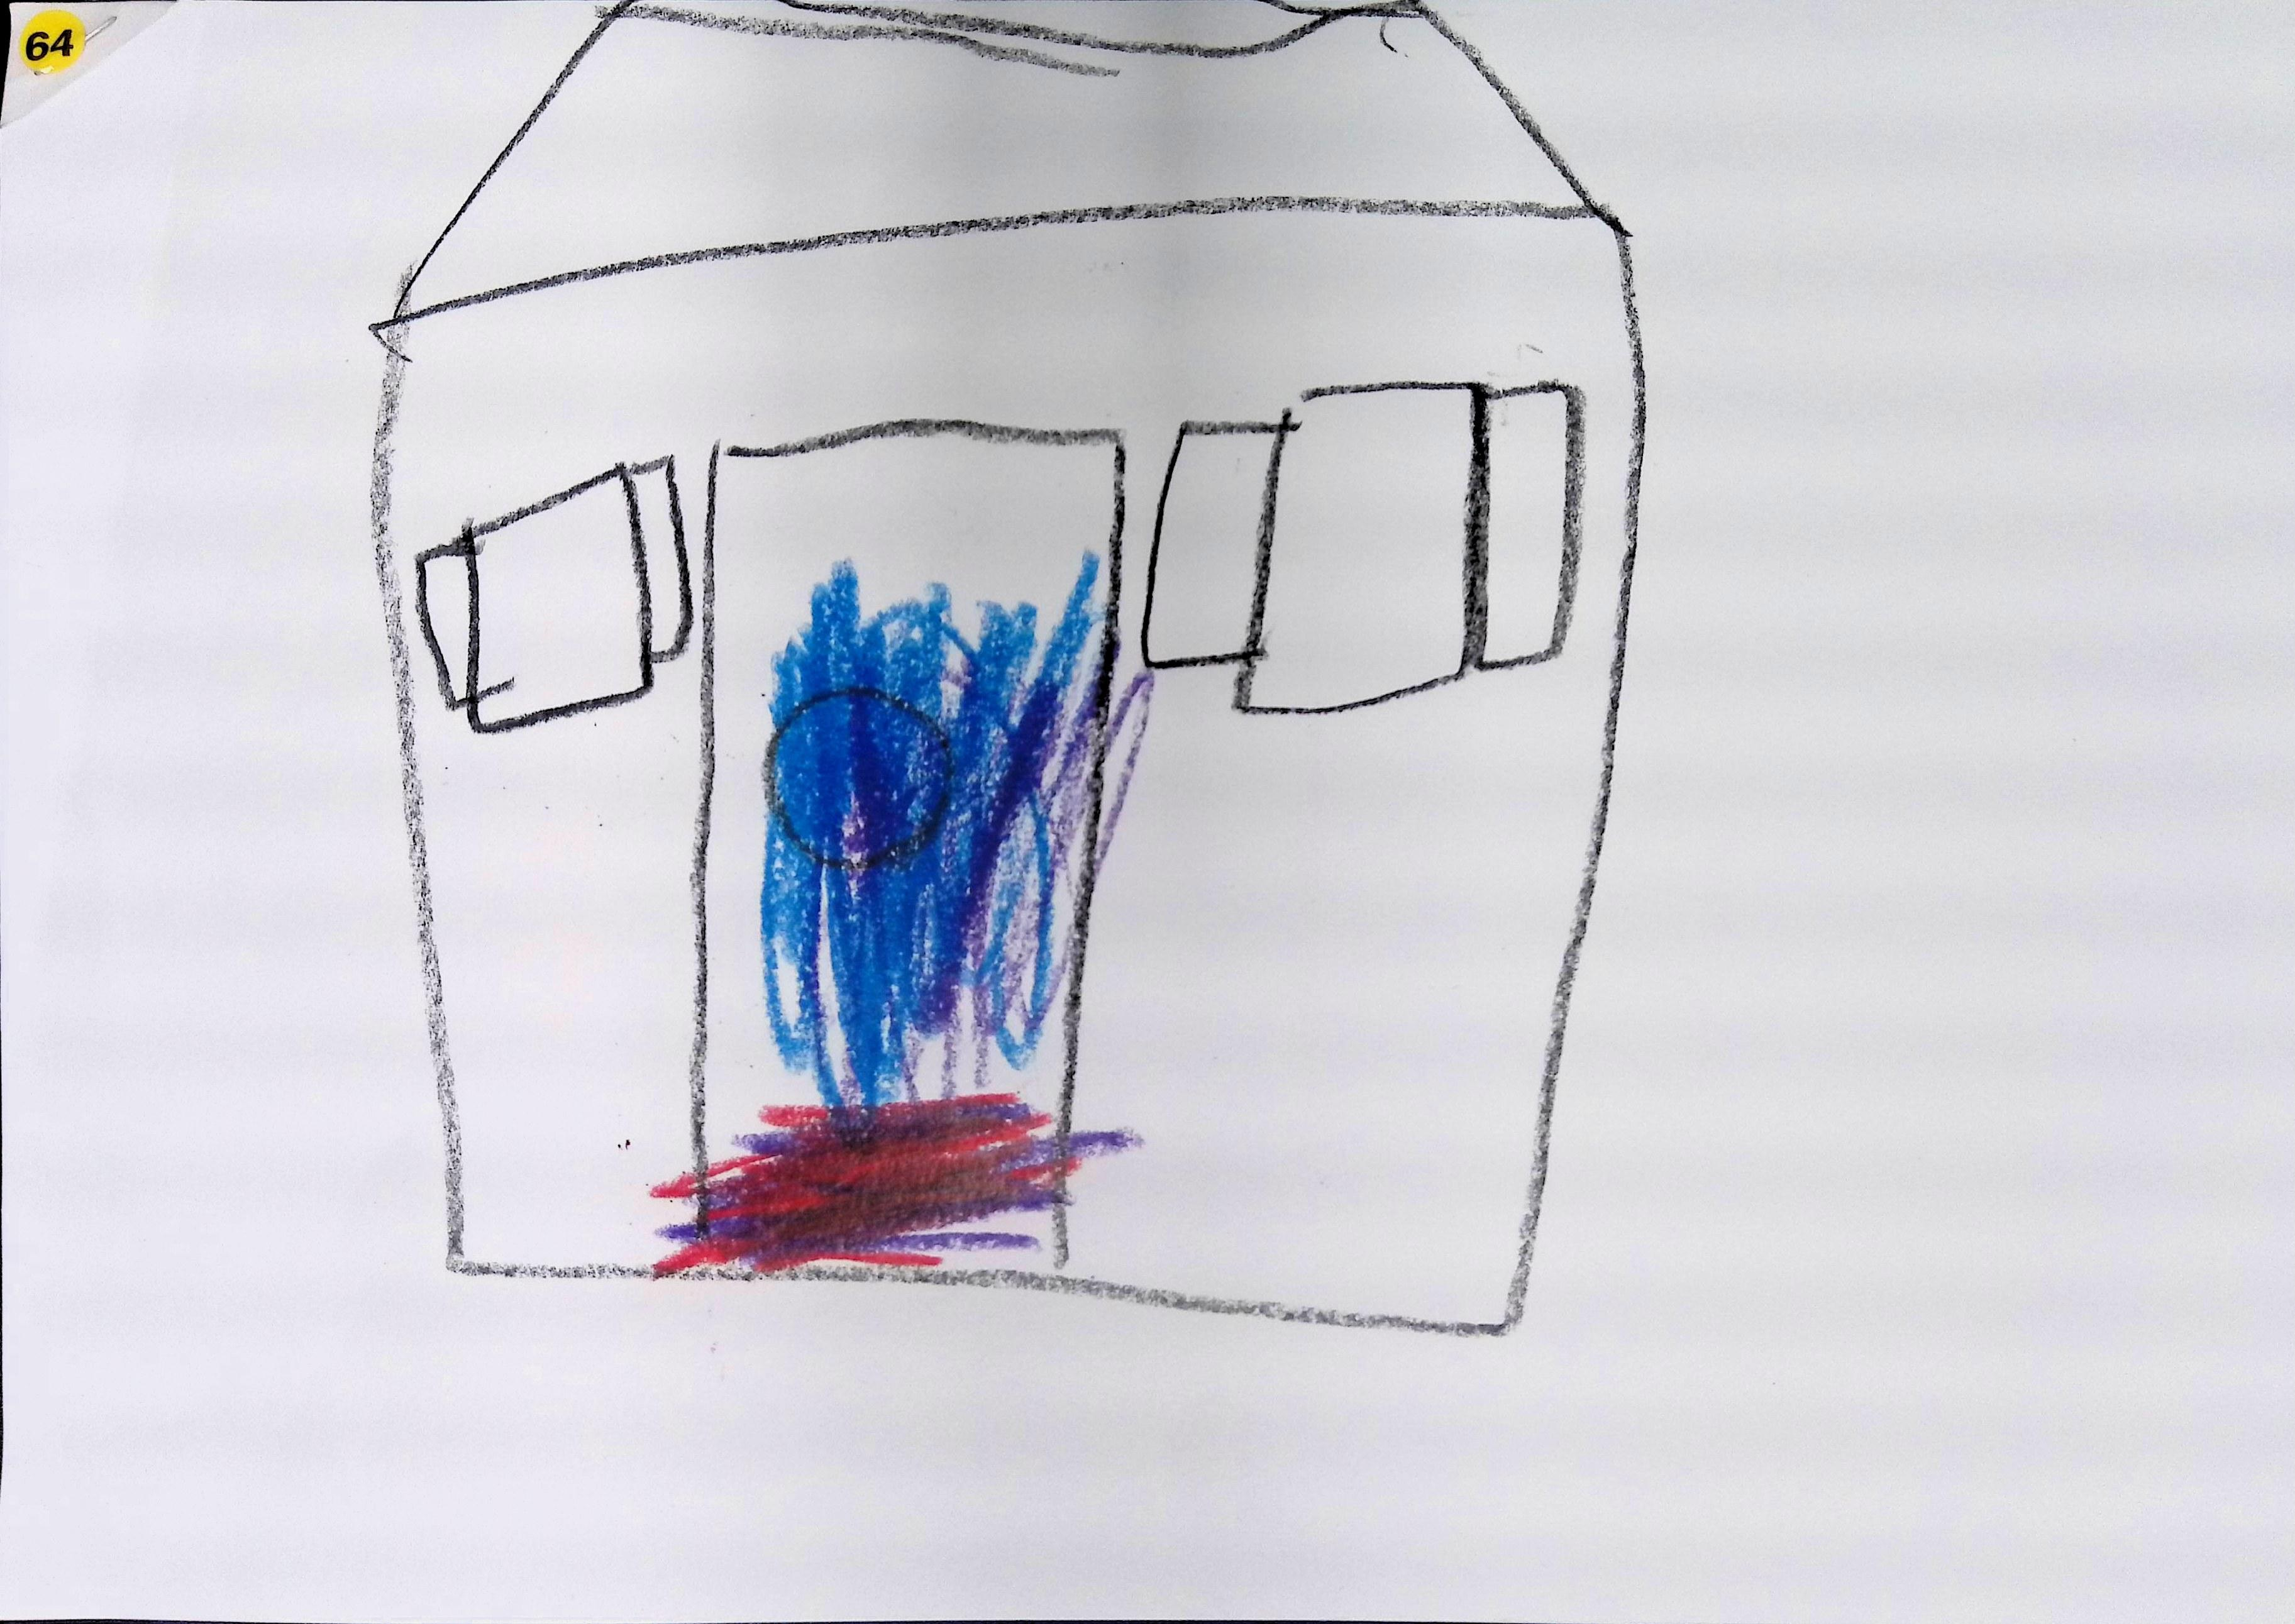door: (652, 429, 1112, 1288)
house: (373, 0, 1643, 1334)
roof: (394, 0, 1596, 316)
wall: (374, 195, 1647, 1329)
window: (1142, 380, 1585, 712), (413, 455, 692, 733)
